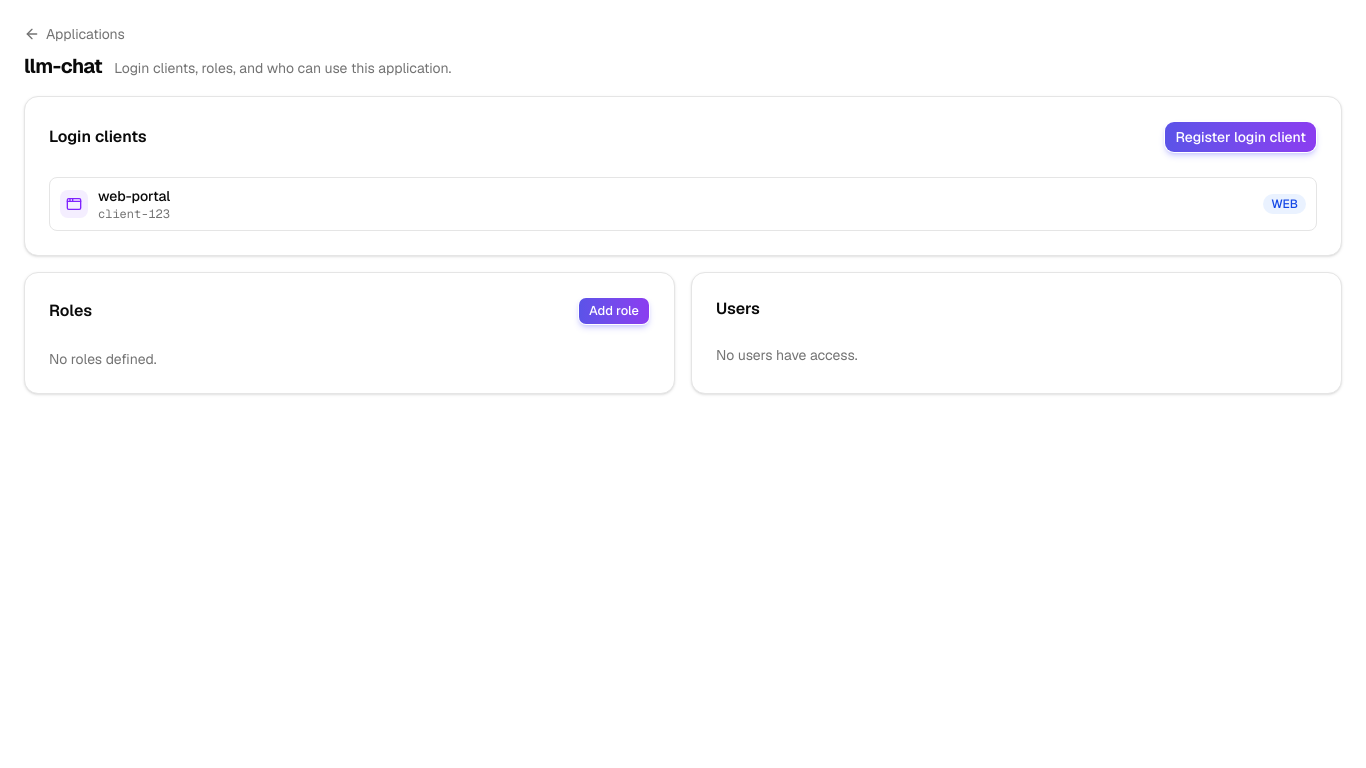
Scenario: ApplicationDetailPage › lists the application's login clients and opens the detail panel on select
This screenshot has width=1366, height=768.
expect the text "web-portal" is shown: met, box 98,186 -> 170,206
expect the text "https://portal.example/callback" is not shown: met
Click the button "web-portal client-123 WEB" at (134, 196), box 49,177 -> 1317,231
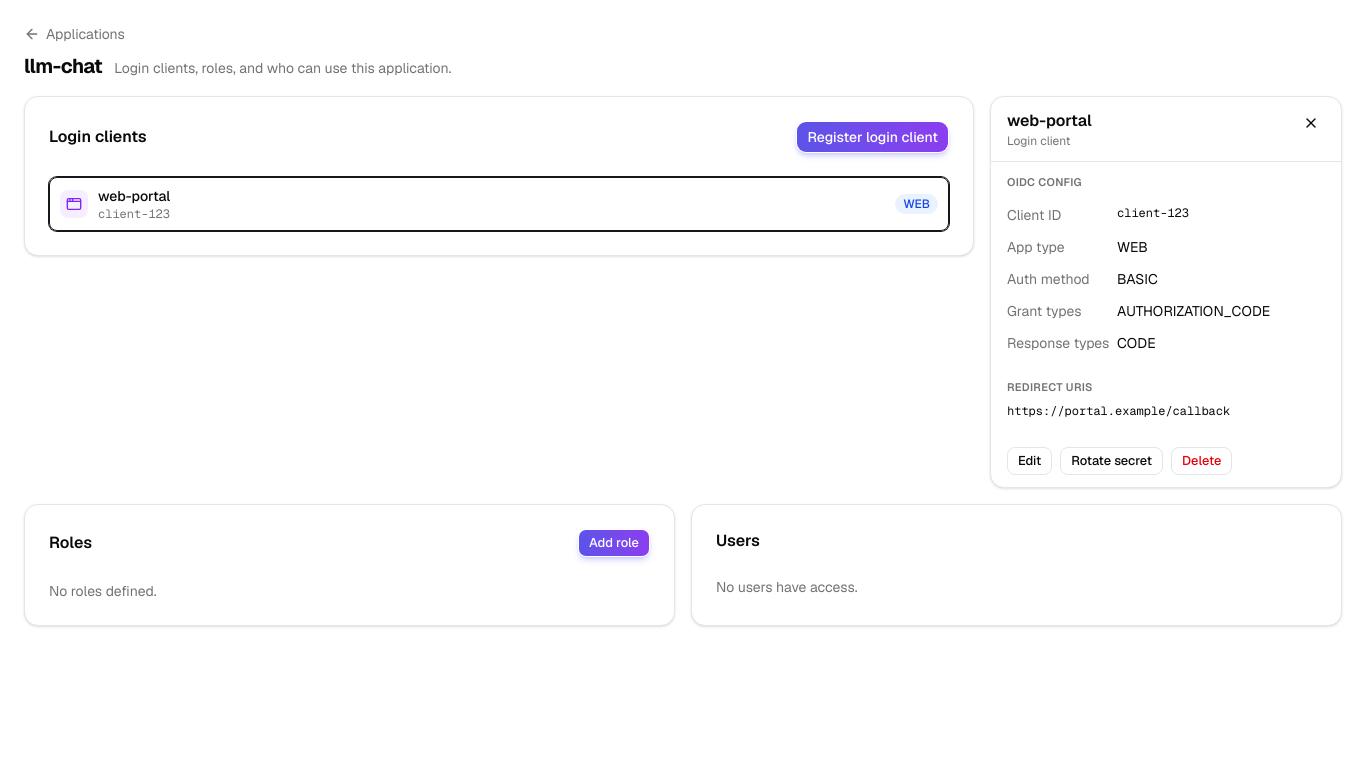
expect the list item "https://portal.example/callback" is shown: met, box 1007,403 -> 1230,419
